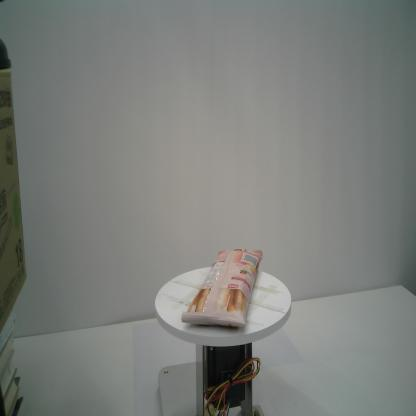Dessert: (181, 244, 264, 328)
